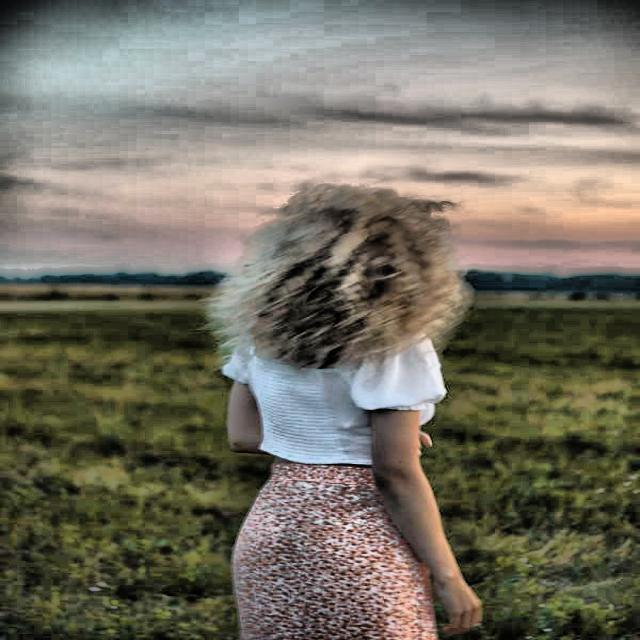Human: (168, 135, 530, 640)
